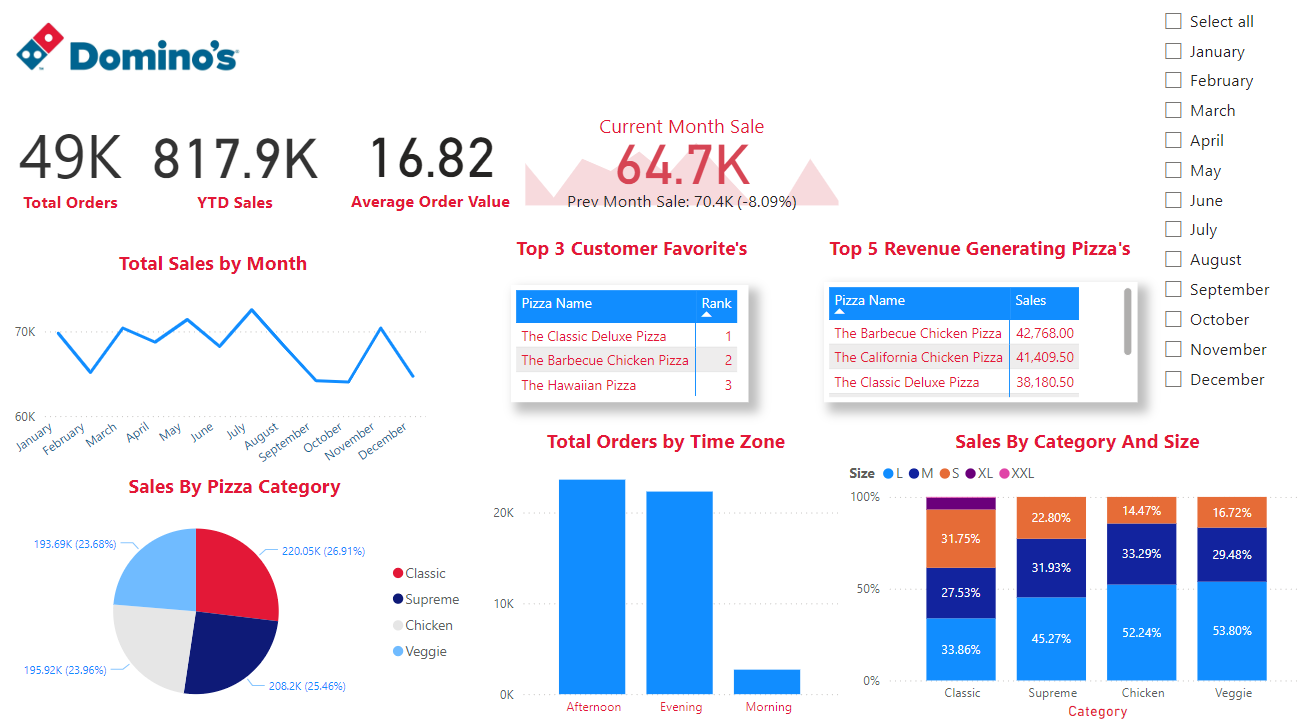

What the dashboard file says about the page in this screenshot:
{"tool":"powerbi","page":{"name":"Page 1","canvas":[1280,720],"ordinal":0},"visuals":[{"type":"lineChart","fields":{"Category":["Date.Date.Variation.Date Hierarchy.Month"],"Y":["pizza_sales.Total Sales"]},"box":[0,256.8,424.1,230.5],"z":0},{"type":"clusteredColumnChart","fields":{"Category":["pizza_sales.Time Zone"],"Y":["pizza_sales.Total Orders"]},"box":[479.5,429.9,346.3,289.8],"z":1000},{"type":"pieChart","title":"Sales By Pizza Category","fields":{"Category":["pizza_sales.pizza_category"],"Series":["pizza_sales.pizza_category"],"Y":["pizza_sales.Total Sales"]},"box":[0,473.7,465.9,246.1],"z":2000},{"type":"hundredPercentStackedColumnChart","title":"Sales By Category And Size","fields":{"Y":["pizza_sales.Total Sales"],"Category":["pizza_sales.pizza_category"],"Series":["pizza_sales.pizza_size"]},"box":[825.8,429.9,454.2,289.8],"z":4000},{"type":"pivotTable","fields":{"Rows":["pizza_sales.pizza_name"],"Values":["pizza_sales.Pizza Rank"]},"box":[501.9,291.8,230.5,113.8],"z":5000},{"type":"card","fields":{"Values":["pizza_sales.YTD Sales"]},"box":[128.4,101.2,210.1,142],"z":6000},{"type":"card","fields":{"Values":["pizza_sales.Total Orders"]},"box":[0,101.2,146.9,142],"z":7000},{"type":"card","fields":{"Values":["pizza_sales.Average Order Value"]},"box":[329.7,97.3,187.7,148.8],"z":8000},{"type":"kpi","title":"Current Month Sale","fields":{"Indicator":["pizza_sales.Total Sales"],"TrendLine":["Date.Month Name"],"Goal":["pizza_sales.Prev Mon Sale"]},"box":[510.6,123.5,315.1,96.3],"z":9000},{"type":"slicer","fields":{"Values":["Date.Month Name"]},"box":[1125.3,14.6,154.7,415.3],"z":10000},{"type":"pivotTable","fields":{"Rows":["pizza_sales.pizza_name"],"Values":["pizza_sales.Total Sales"]},"box":[806.3,288.9,305.4,116.7],"z":10001},{"type":"image","box":[0,0,256.8,136.2],"z":10002},{"type":"textbox","box":[806.3,237.3,319,45.7],"z":10003},{"type":"textbox","box":[501.9,237.3,246.1,38.9],"z":10004}]}

Visuals, with their boxes in screenshot pixels (x1, y1, x2, y2), scaled from the page's 1280x720 canvas onto the 1299x725 screenshot:
lineChart - Date.Date.Variation.Date Hierarchy.Month x pizza_sales.Total Sales: l=0, t=259, r=430, b=491
clusteredColumnChart - pizza_sales.Time Zone x pizza_sales.Total Orders: l=487, t=433, r=838, b=724
"Sales By Pizza Category" pieChart: l=0, t=477, r=473, b=724
"Sales By Category And Size" hundredPercentStackedColumnChart: l=838, t=433, r=1298, b=724
pivotTable - pizza_sales.pizza_name x pizza_sales.Pizza Rank: l=509, t=294, r=743, b=408
card - pizza_sales.YTD Sales: l=130, t=102, r=344, b=245
card - pizza_sales.Total Orders: l=0, t=102, r=149, b=245
card - pizza_sales.Average Order Value: l=335, t=98, r=525, b=248
"Current Month Sale" kpi: l=518, t=124, r=838, b=221
slicer - Date.Month Name: l=1142, t=15, r=1298, b=433
pivotTable - pizza_sales.pizza_name x pizza_sales.Total Sales: l=818, t=291, r=1128, b=408
image: l=0, t=0, r=261, b=137
textbox: l=818, t=239, r=1142, b=285
textbox: l=509, t=239, r=759, b=278
